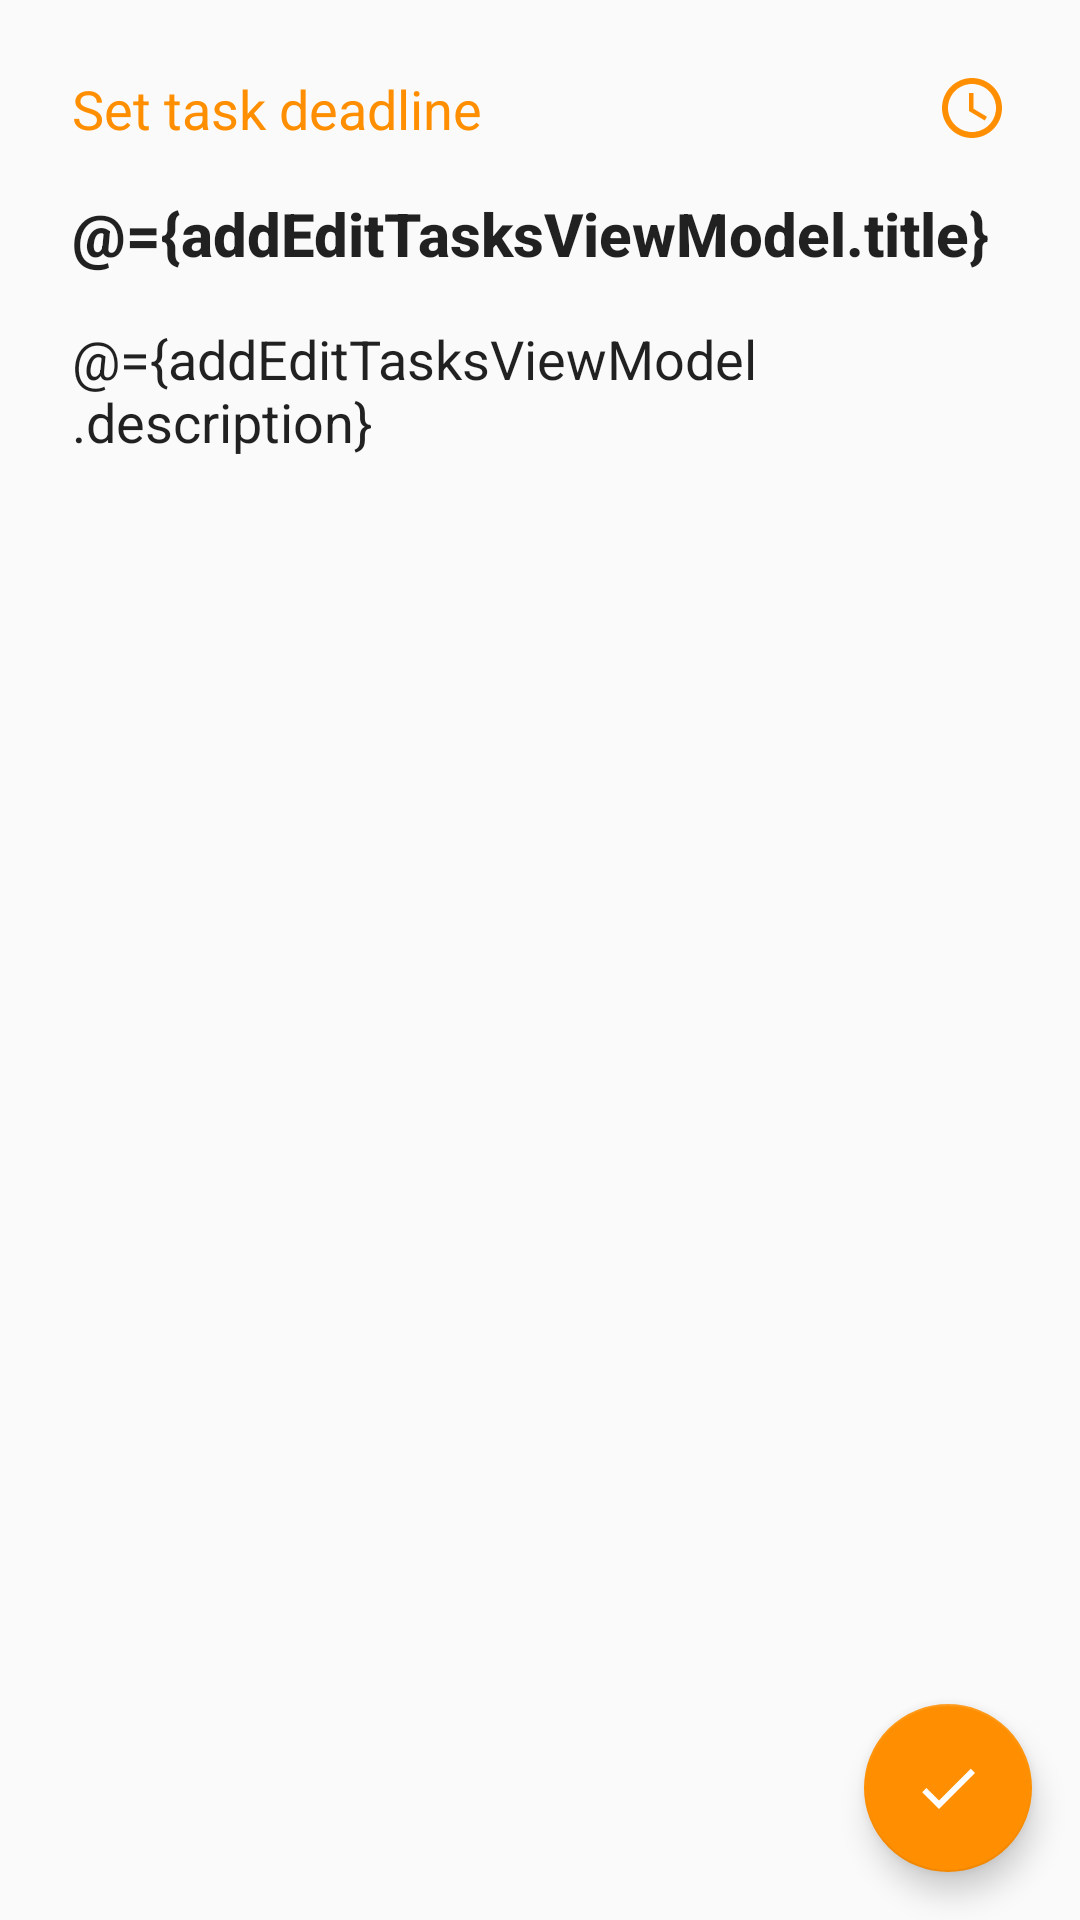

Point at icon controls on the screen. Image size 1080px×1920px, points as (x=x, y=y).
Save task: (x=948, y=1788)
